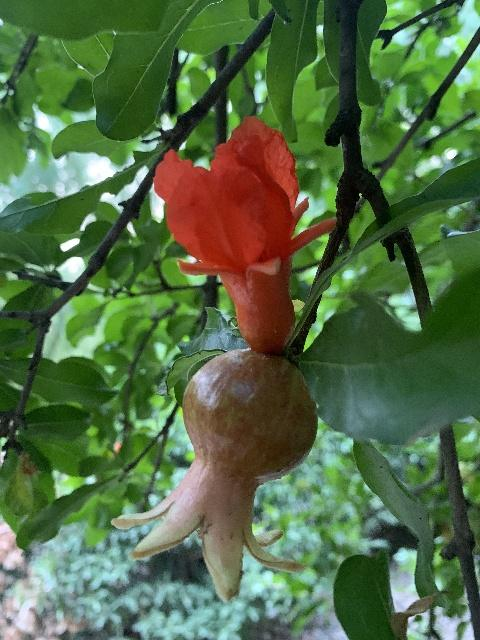early-fruit: (111, 350, 319, 604)
flower: (152, 116, 335, 353)
